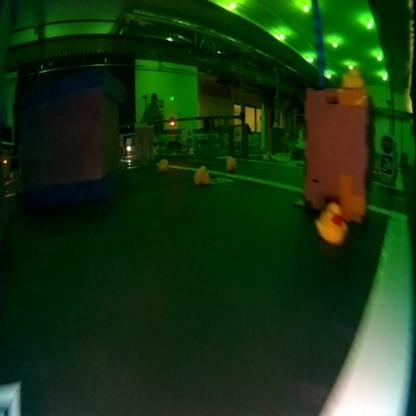Duckie: (315, 202, 346, 243), (342, 66, 362, 86), (194, 164, 209, 184), (226, 156, 236, 170), (158, 159, 168, 169)
